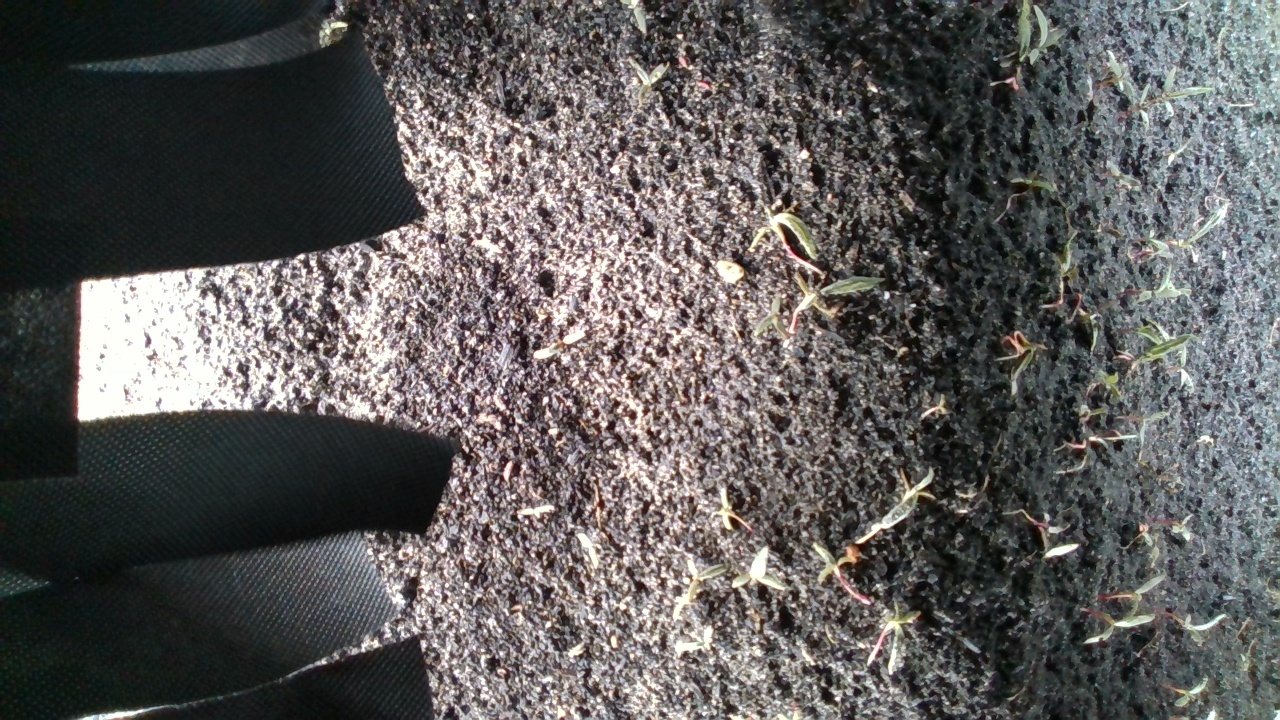weed: (1163, 603, 1231, 655)
